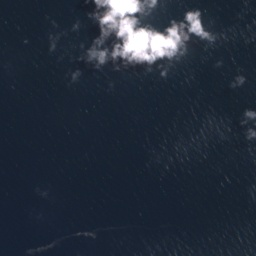Marine Debris: (25, 230, 97, 256)
